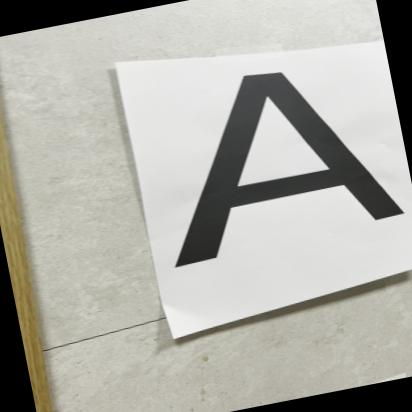seat: (147, 43, 412, 295)
